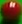red: (0, 0, 22, 24)
